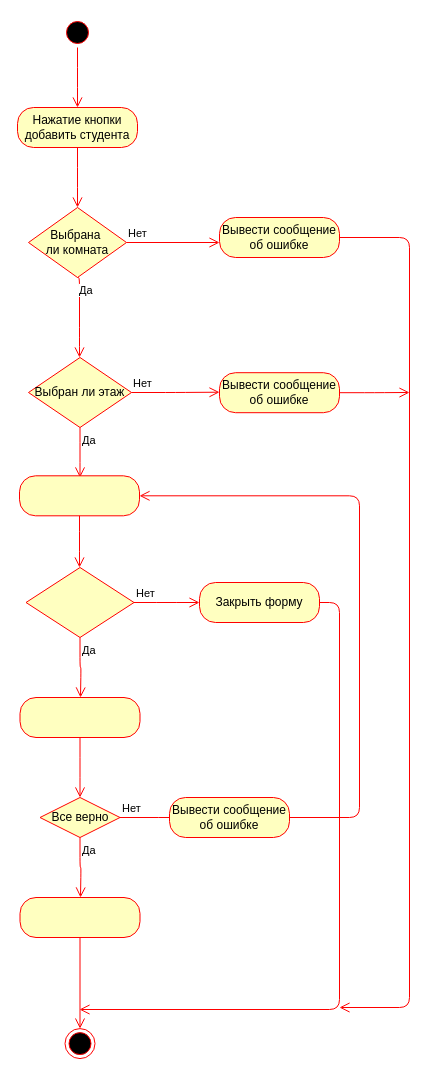
This 437x1077 diagram has some shape labels left out. The shapes that lost their labels are listed below. From the top down, each one's box as (x1, y1, x2, y2) in pixels, then its label:
(18, 475, 140, 516): Показать форму
(25, 566, 134, 638): Нажать кнопку ОК
(19, 696, 140, 738): Проверка введенных данных
(19, 896, 140, 938): Сохранение данных и закрытие формы
